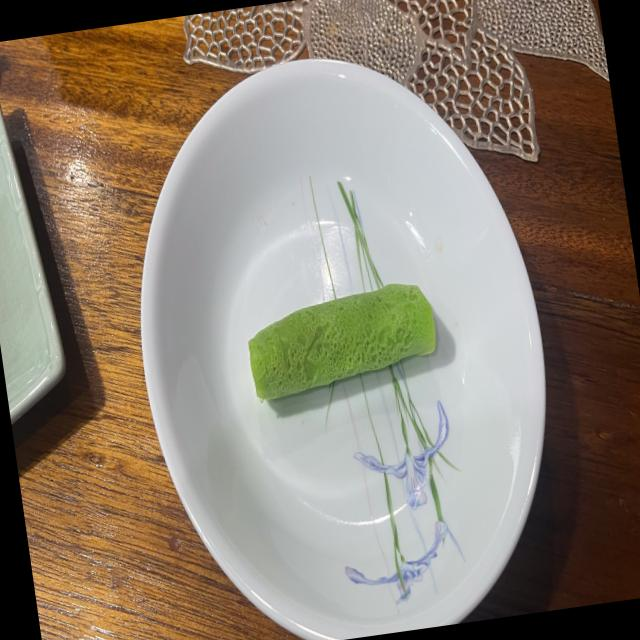Kuih-Ketayap: (249, 283, 436, 400)
